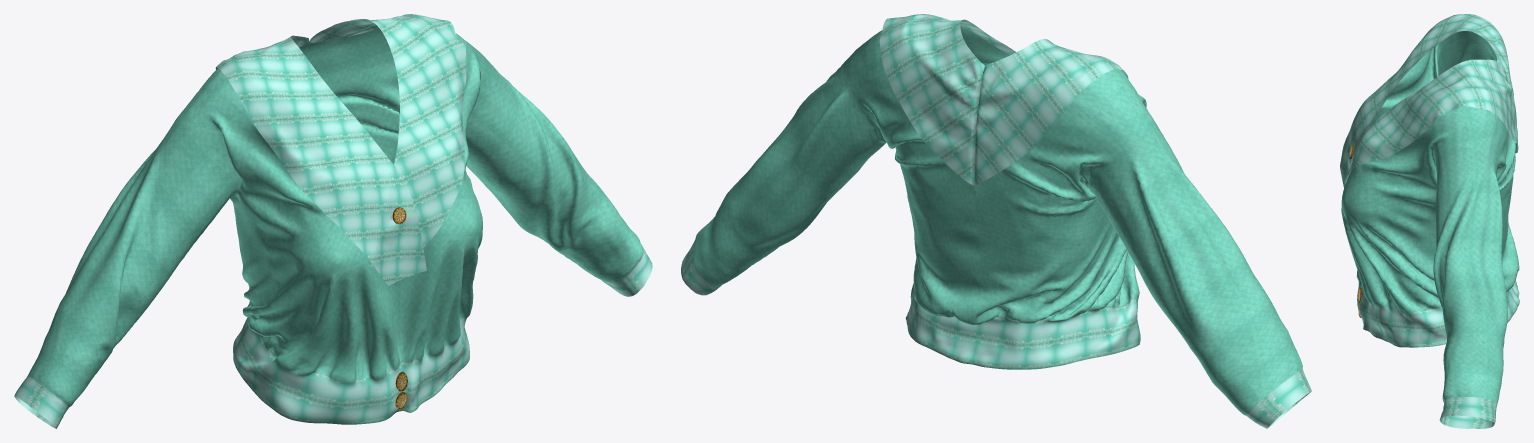
The model's file is female-jacket.glb.
The picture shows the model from 3 angles, left to right: view 1: azimuth 30°, elevation 25°; view 2: azimuth 150°, elevation 25°; view 3: azimuth 270°, elevation 25°; orthographic projection. The views are drawn at different scales.
Visible parts, largest first — view 1: Subdivision_Surface; view 2: Subdivision_Surface; view 3: Subdivision_Surface.
Boxes of the visible parts, bbox=[...] form: Subdivision_Surface: bbox=[14, 14, 652, 428]; Subdivision_Surface: bbox=[681, 14, 1311, 428]; Subdivision_Surface: bbox=[1340, 14, 1519, 428].
Bounding box in the file's own units: 1.72 × 0.8969 × 0.5272.
3 materials, 3 textured.
